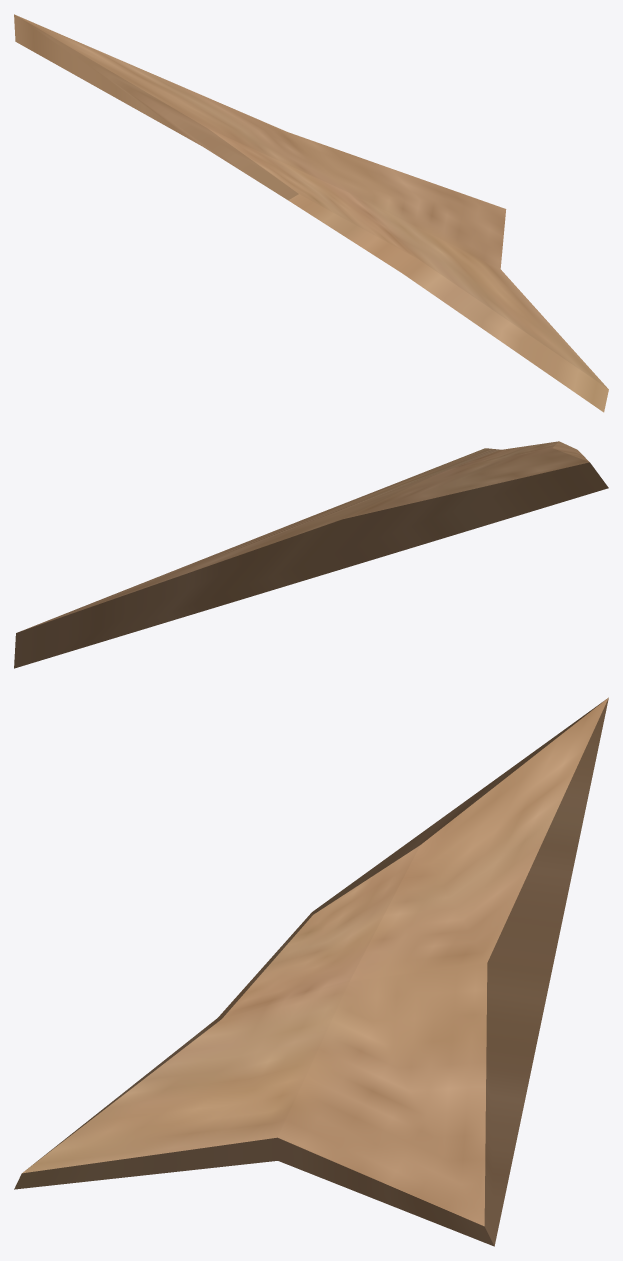
The model's file is Shell_Part3.fbx.
The picture shows the model from 3 angles, top to bottom: view 1: azimuth 30°, elevation 25°; view 2: azimuth 150°, elevation 25°; view 3: azimuth 270°, elevation 25°; orthographic projection. The views are drawn at different scales.
Visible parts, largest first — view 1: Sphere; view 2: Sphere; view 3: Sphere.
Boxes of the visible parts, x1,y1,x2,y2 form: Sphere: (14, 14, 608, 412); Sphere: (14, 441, 608, 668); Sphere: (14, 697, 608, 1246).
Bounding box in the file's own units: 1.48 × 0.9009 × 1.54.
